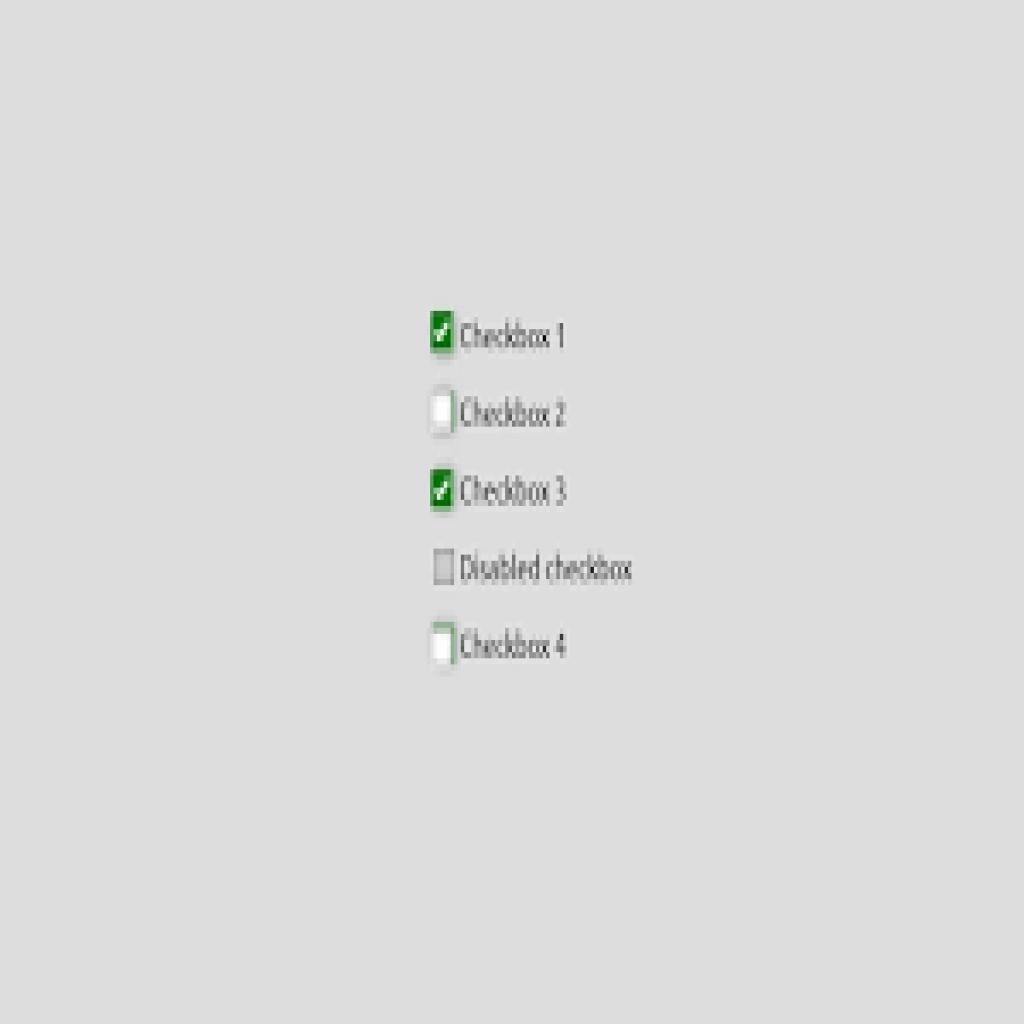checkbox: (428, 387, 455, 436), (431, 312, 456, 355), (432, 624, 457, 667), (433, 549, 458, 587), (432, 471, 454, 510)
label: (460, 548, 636, 588), (458, 622, 573, 665), (462, 392, 571, 435), (460, 317, 572, 355), (461, 472, 573, 510)
